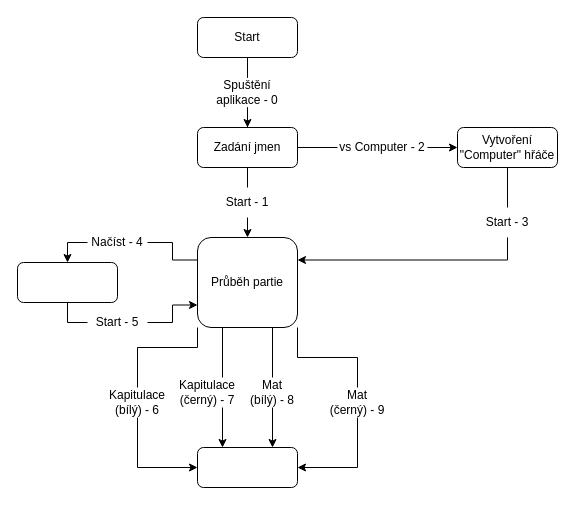
Some shapes in this 575 by 505 pixel diagram are drawn without their labels. The centre of each missing label's shape, as x and y in pixels:
Konec partie: (x=247, y=467)
Uložená hra: (x=67, y=282)
